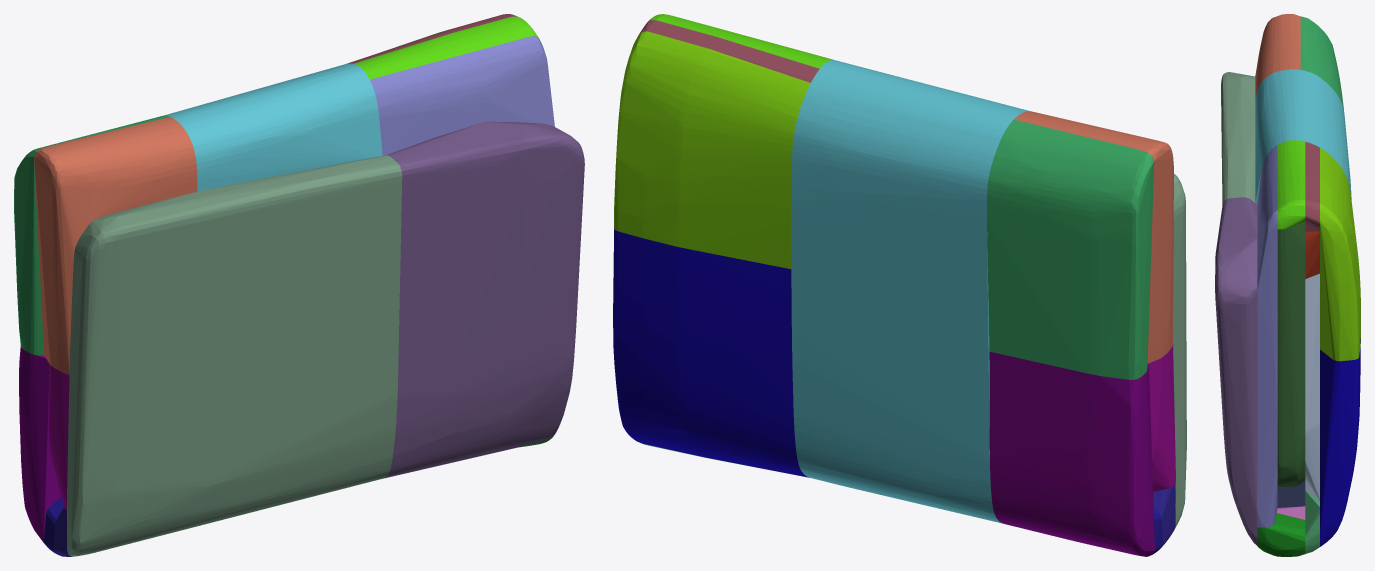
File: coacd_collision.obj
3 renders of one model, left to right at view 1: azimuth 30°, elevation 25°; view 2: azimuth 150°, elevation 25°; view 3: azimuth 270°, elevation 25°, orthographic. The views are drawn at different scales.
Visible parts, largest first — view 1: geometry_0, geometry_1, geometry_9, geometry_2, geometry_12, geometry_11, geometry_10, geometry_17, geometry_14, geometry_13; view 2: geometry_2, geometry_10, geometry_5, geometry_4, geometry_11, geometry_9, geometry_0, geometry_14, geometry_13, geometry_17, geometry_18; view 3: geometry_1, geometry_12, geometry_19, geometry_4, geometry_2, geometry_5, geometry_0, geometry_6, geometry_17, geometry_9, geometry_10, geometry_8 (+5 smaller).
Part boxes in pixels (x1,y1,x2,y2): geometry_0: [67, 155, 402, 556]; geometry_1: [383, 121, 584, 478]; geometry_9: [34, 117, 197, 375]; geometry_2: [164, 63, 382, 191]; geometry_12: [370, 36, 554, 155]; geometry_11: [19, 346, 60, 542]; geometry_10: [14, 115, 169, 355]; geometry_17: [354, 16, 539, 79]; geometry_14: [48, 364, 69, 510]; geometry_13: [347, 14, 517, 63]; geometry_2: [791, 60, 1029, 523]; geometry_10: [987, 119, 1154, 379]; geometry_5: [613, 228, 808, 477]; geometry_4: [614, 31, 810, 268]; geometry_11: [989, 351, 1154, 556]; geometry_9: [1014, 111, 1173, 363]; geometry_0: [1173, 174, 1186, 528]; geometry_14: [1149, 346, 1175, 491]; geometry_13: [637, 20, 819, 82]; geometry_17: [648, 14, 833, 68]; geometry_18: [1153, 485, 1175, 547]; geometry_1: [1215, 197, 1257, 545]; geometry_12: [1257, 145, 1277, 527]; geometry_19: [1277, 222, 1305, 487]; geometry_4: [1320, 148, 1360, 361]; geometry_2: [1255, 69, 1351, 204]; geometry_5: [1320, 338, 1360, 546]; geometry_0: [1221, 72, 1255, 205]; geometry_6: [1305, 273, 1319, 500]; geometry_17: [1277, 140, 1305, 229]; geometry_9: [1255, 14, 1300, 102]; geometry_10: [1300, 16, 1343, 109]; geometry_8: [1257, 513, 1305, 556].
Bounding box in the file's own units: 116 × 91.01 × 34.04.
